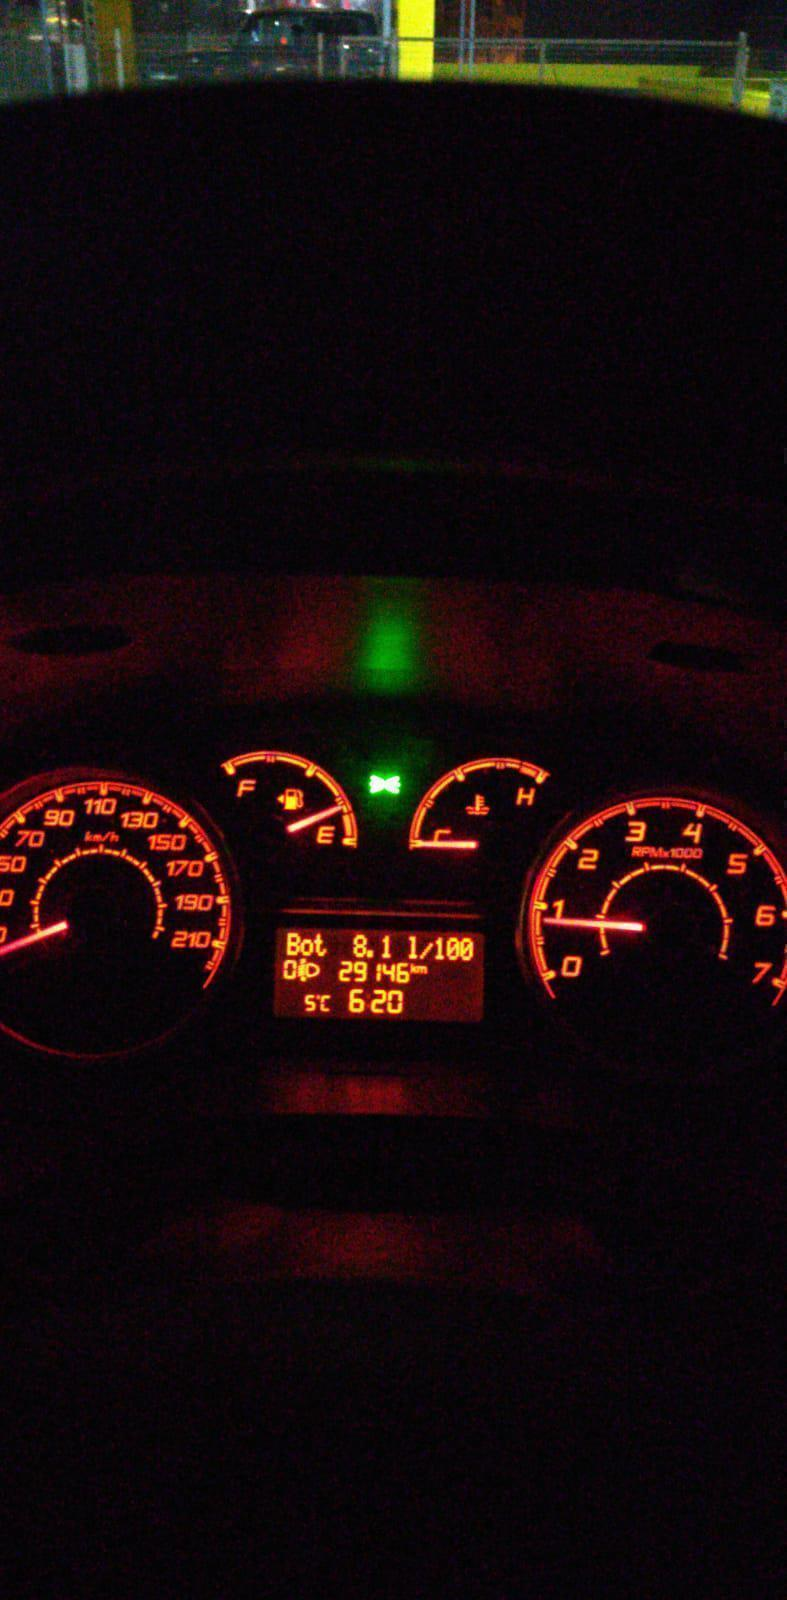0: (387, 988, 402, 1015), (445, 935, 459, 961), (459, 935, 474, 961), (282, 959, 296, 981)
1: (379, 934, 395, 959), (407, 932, 419, 959), (435, 935, 444, 962), (374, 961, 381, 984)
2: (370, 988, 385, 1014), (338, 959, 352, 982)
4: (382, 961, 395, 981)
5: (303, 992, 315, 1012)
6: (347, 987, 364, 1014), (396, 961, 408, 985)
8: (352, 933, 366, 957)
9: (353, 959, 368, 982)
X: (285, 930, 300, 956), (313, 932, 327, 958), (419, 939, 434, 959), (300, 937, 313, 956), (319, 993, 332, 1012), (416, 963, 428, 976), (410, 961, 416, 976), (365, 992, 370, 1011)
odometer: (270, 924, 488, 1026)
